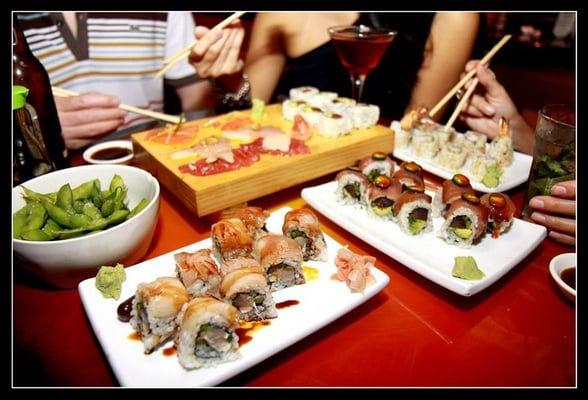sushi: (12, 164, 161, 278), (548, 252, 577, 307)
